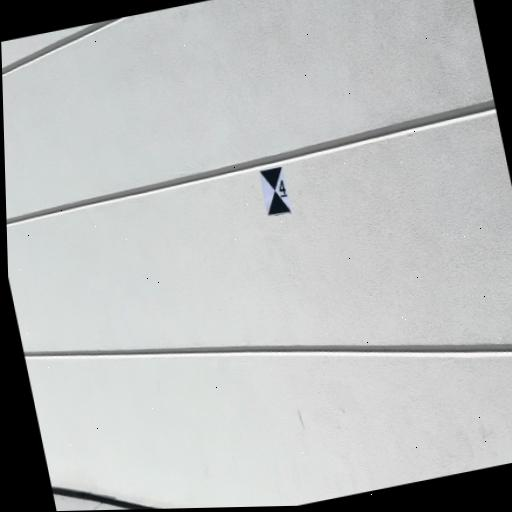target4: (258, 167, 292, 216)
